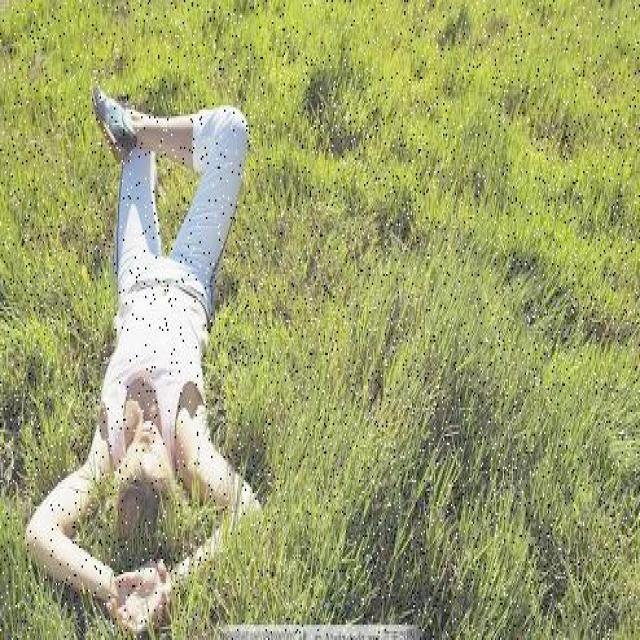fall: (50, 98, 254, 610)
